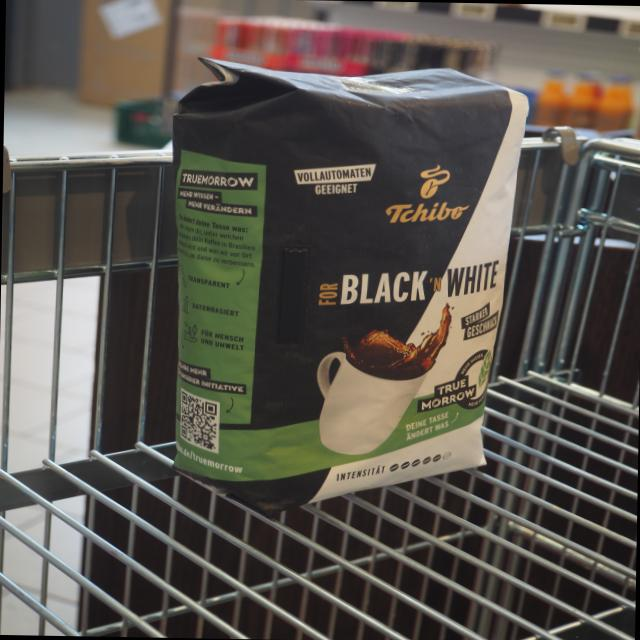BW Bohne: (146, 35, 536, 522)
